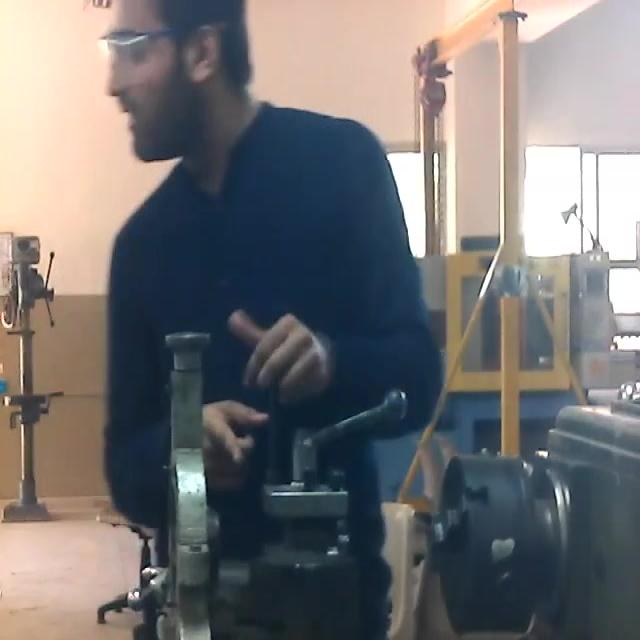googles: (95, 25, 159, 82)
